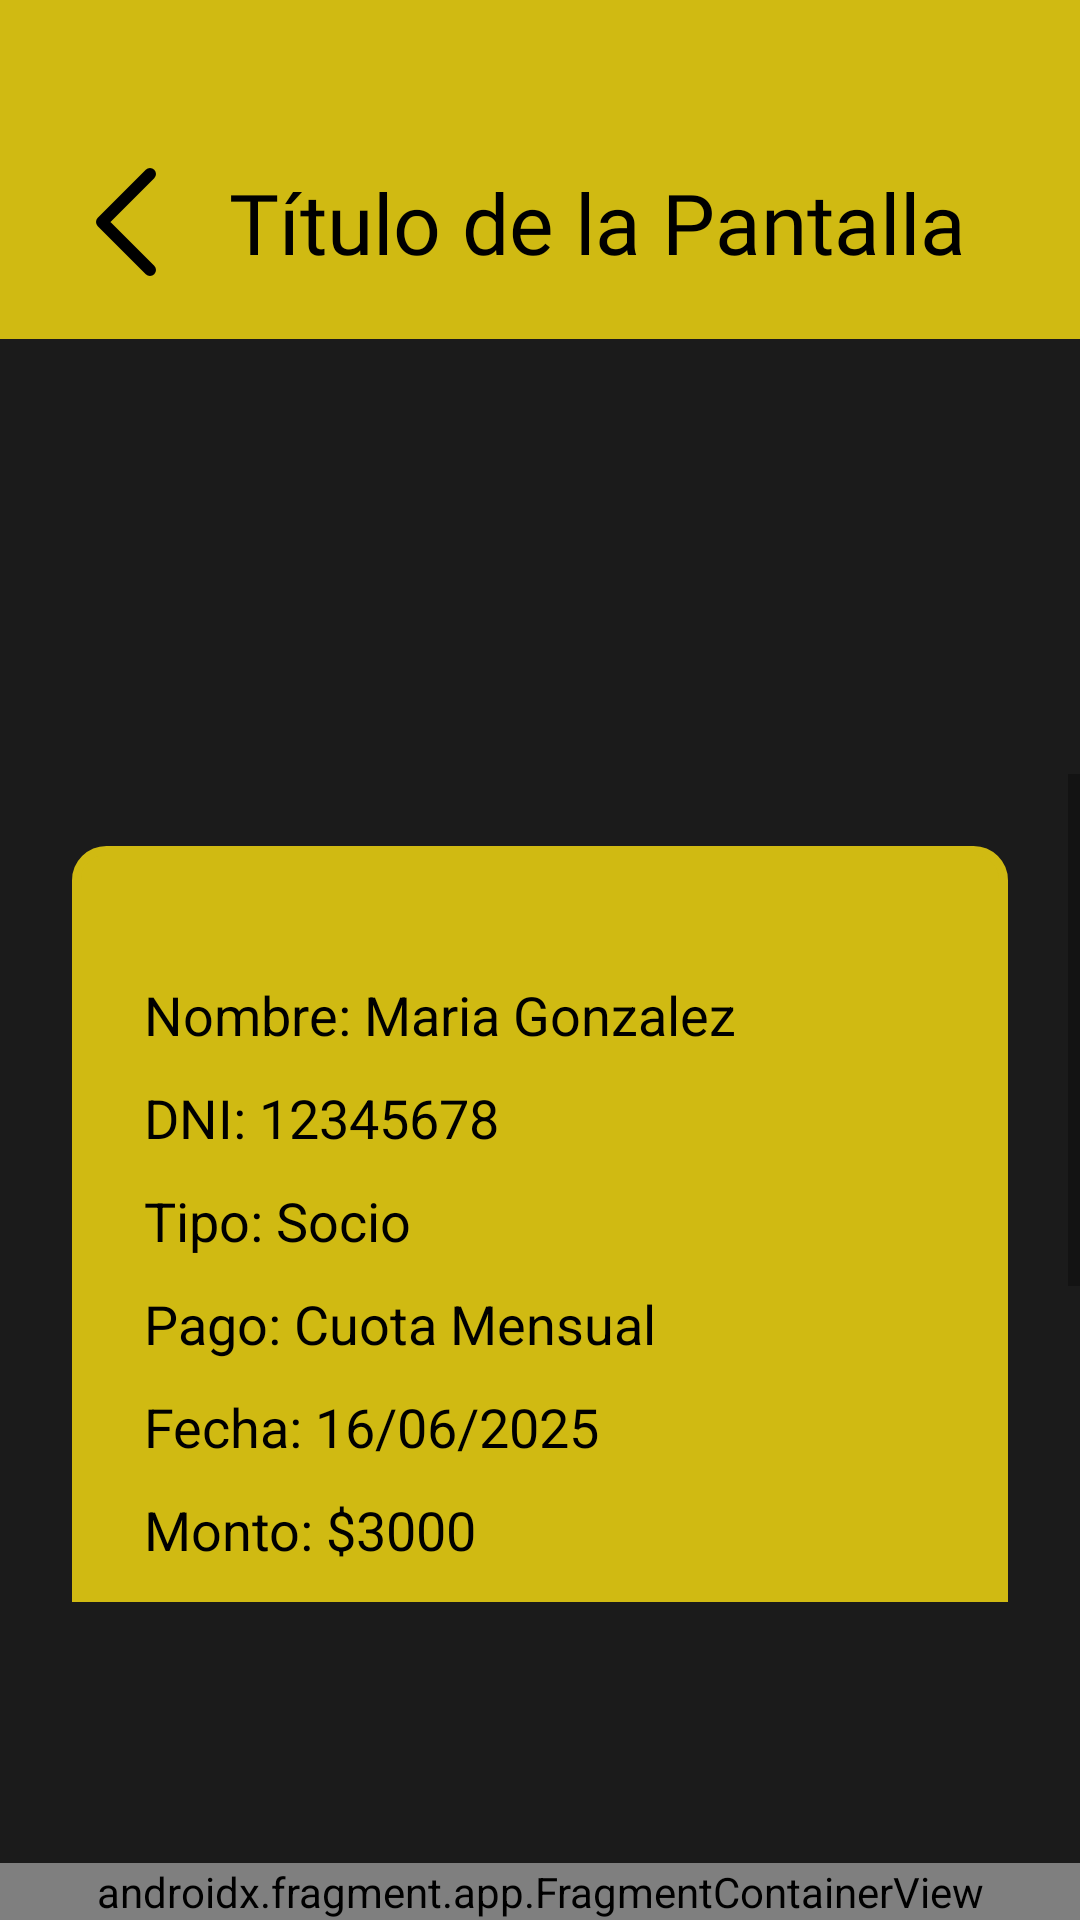

Icons on this 1080*1920 Android screen, each with the point to tap as [x,y]:
atras: [126,222]
